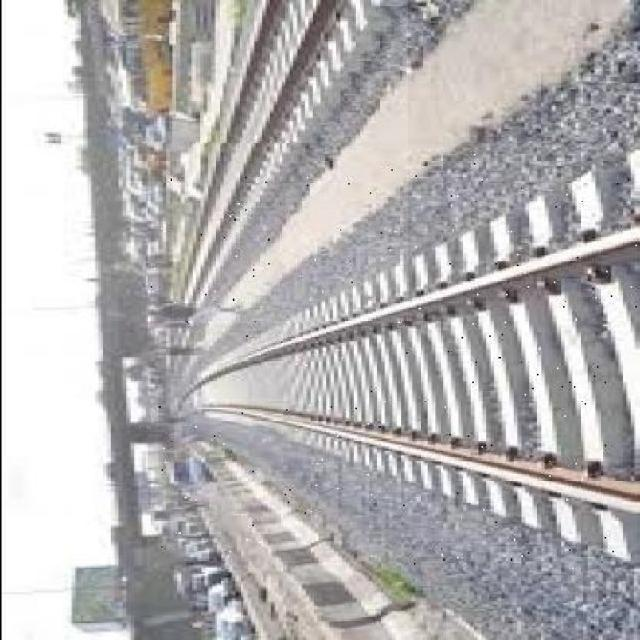rail: (148, 145, 638, 573), (174, 1, 409, 324)
